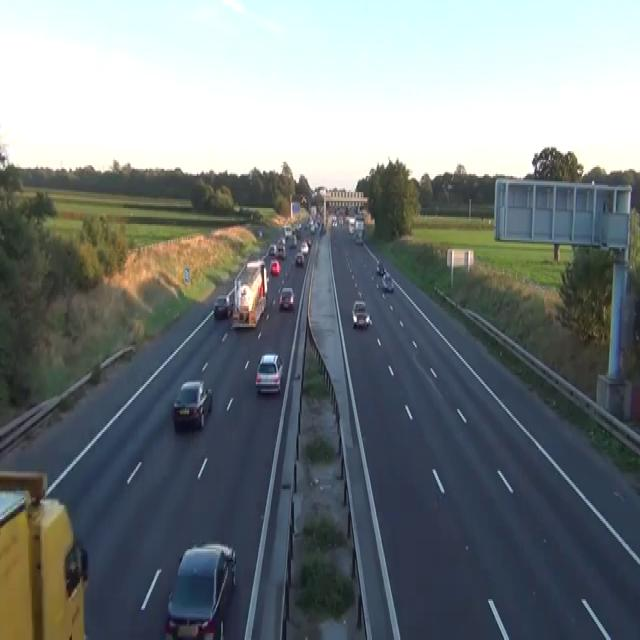Car: (164, 540, 236, 638), (172, 379, 212, 430), (65, 539, 88, 597), (255, 352, 283, 393), (351, 299, 372, 329), (213, 294, 232, 318), (278, 286, 294, 310), (382, 270, 393, 292), (226, 290, 234, 316), (270, 258, 280, 276), (295, 250, 304, 266), (288, 235, 297, 249), (354, 230, 363, 243), (300, 240, 308, 254), (376, 261, 384, 274), (383, 281, 393, 291), (268, 244, 276, 256), (309, 222, 315, 233), (321, 222, 326, 233), (331, 217, 337, 226), (300, 196, 306, 204), (306, 237, 311, 246), (338, 215, 343, 224), (258, 230, 262, 237)
Truck: (0, 470, 88, 638), (230, 259, 268, 329)
